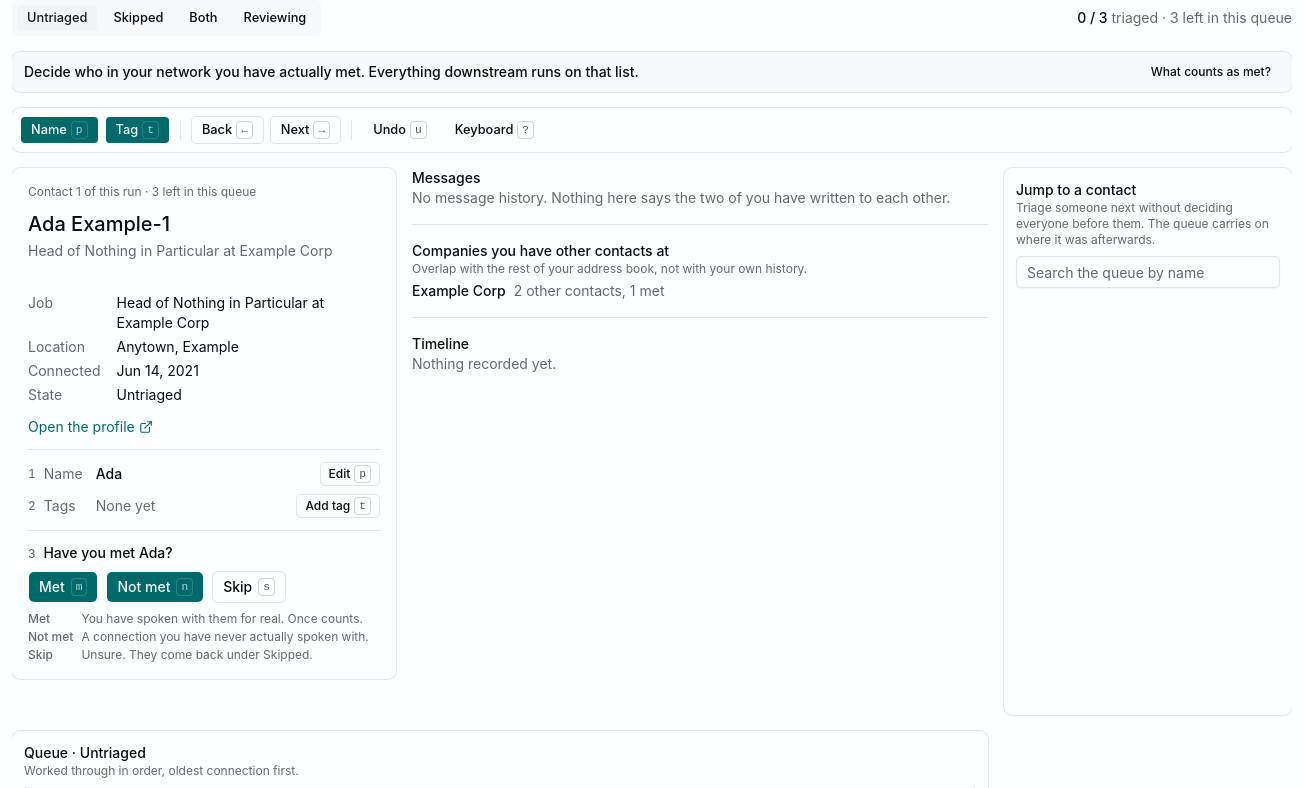
Test: undo › takes back a preferred-name edit without losing the card
The width and height of the screenshot is (1304, 788).
Press p
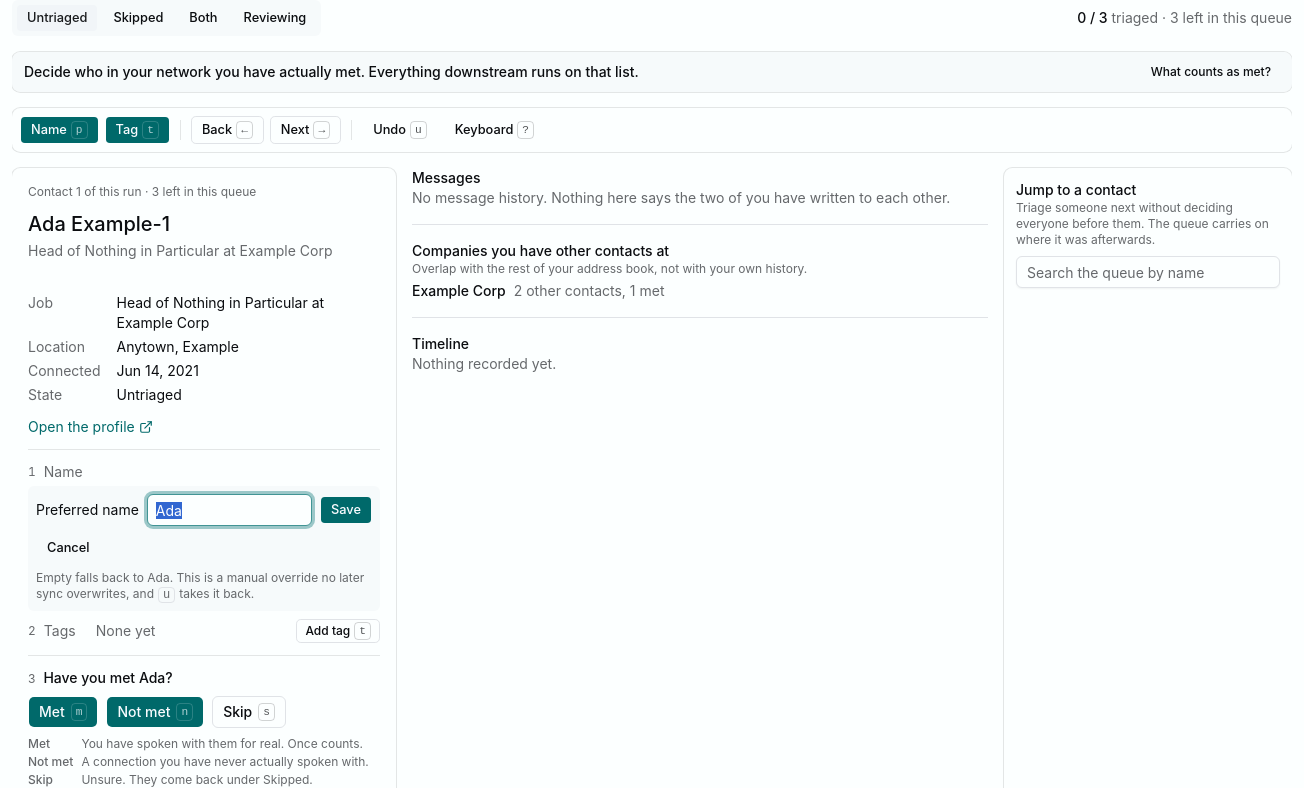
In the field labelled "Preferred name": (229, 510) [147,494,312,526], type "Addie"
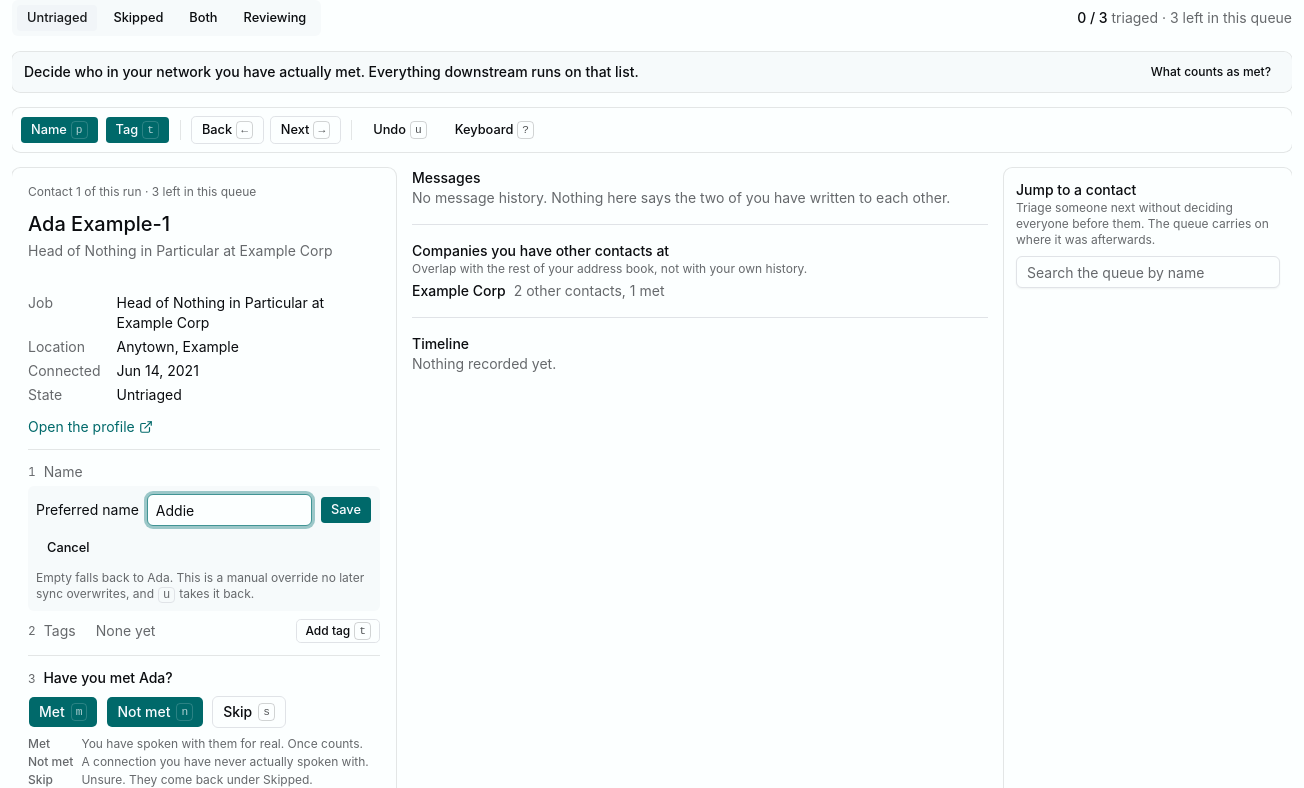
Submit the form labelled "Preferred name", box [28,486,380,611]
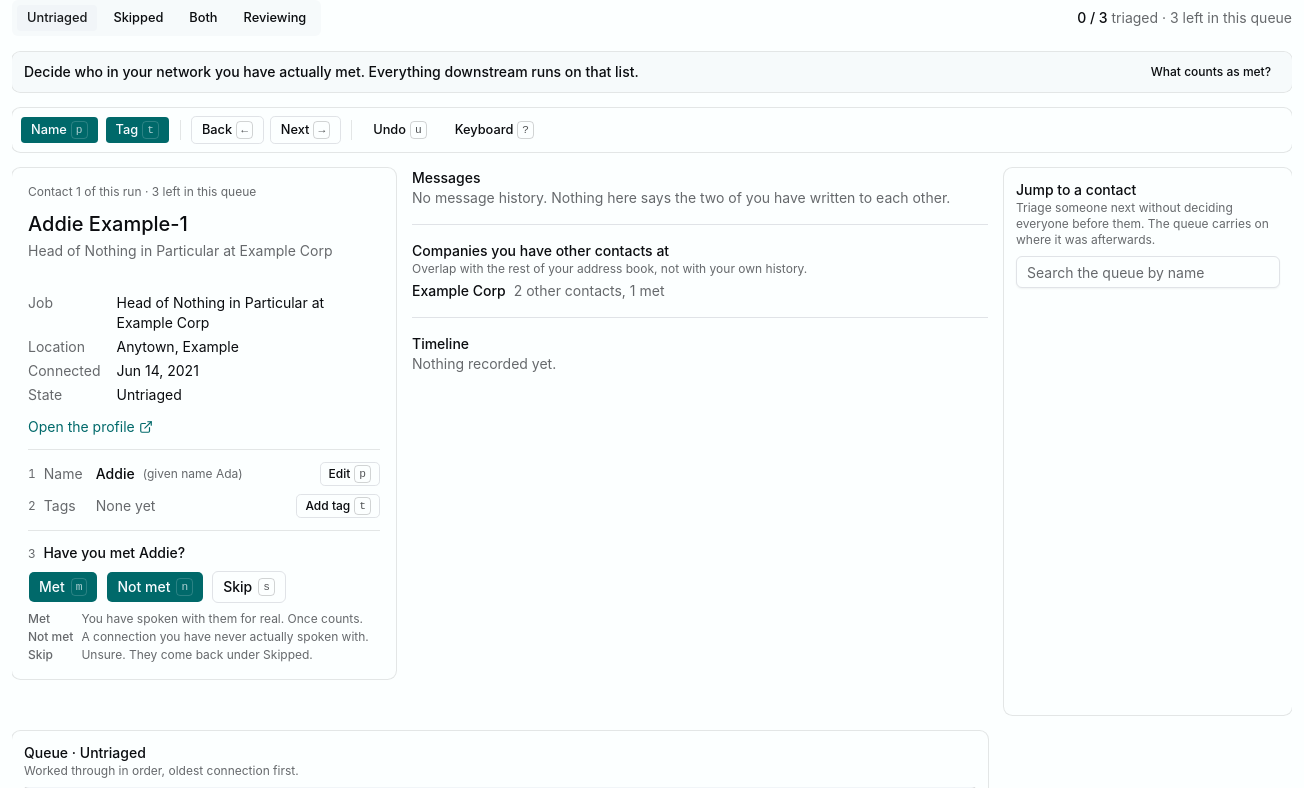
Check: the text "Addie" is shown, box [96,464,135,484]
Press u
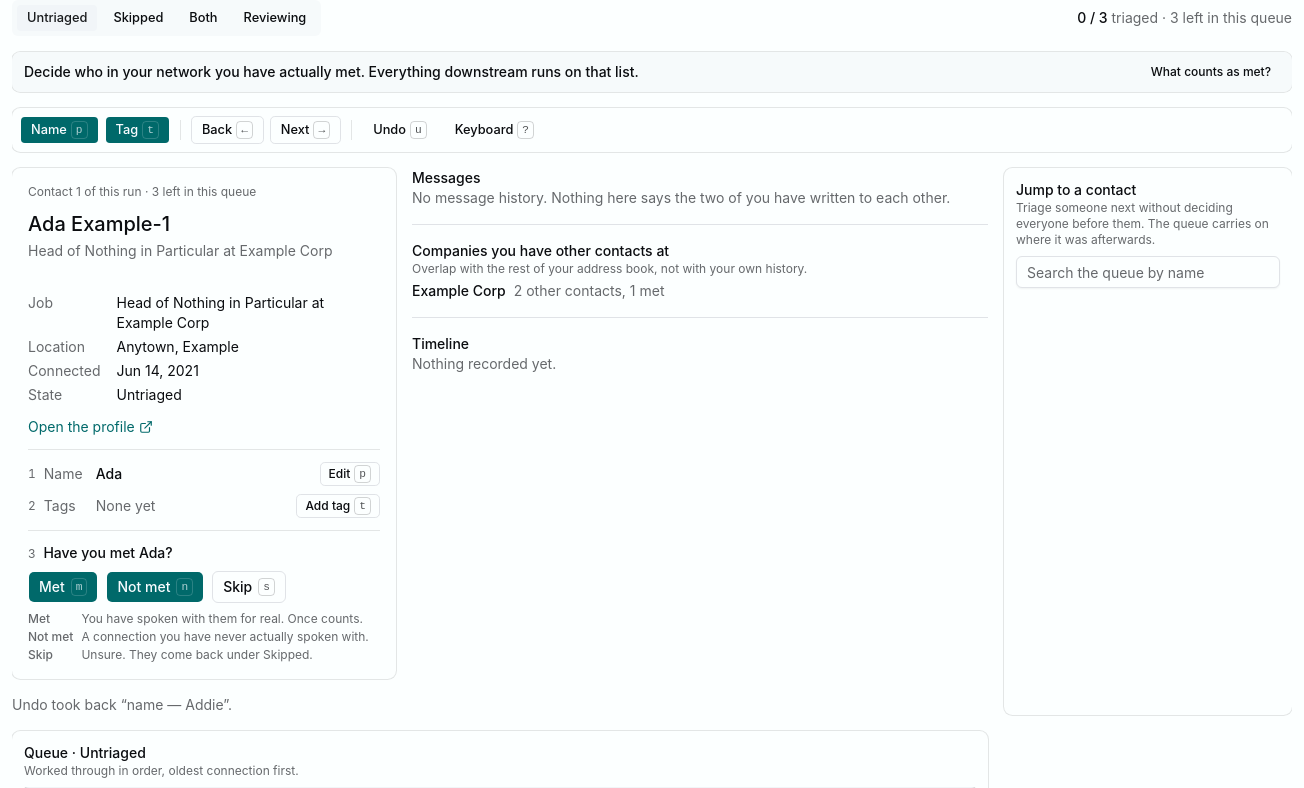
Check: the number of elements with test id "triage-card" is 1, box [28,184,380,437]
Check: the text "Ada" is shown, box [96,464,122,484]
